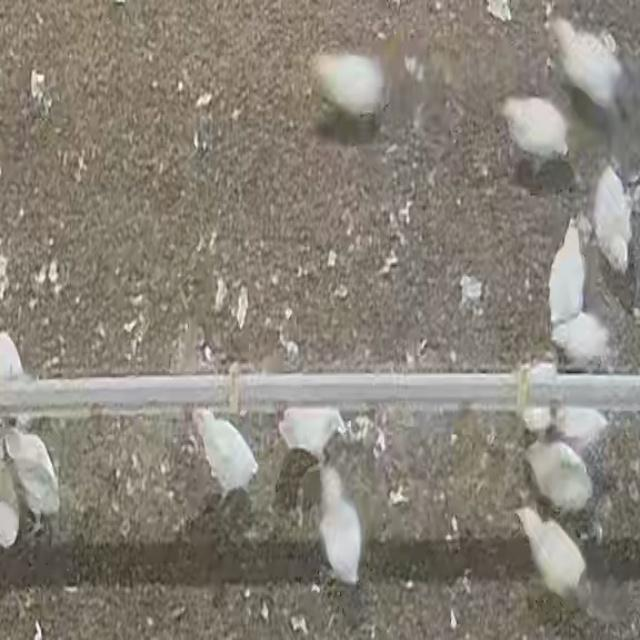chicken: (553, 14, 627, 115), (515, 508, 585, 600), (6, 426, 58, 530), (194, 409, 254, 497), (321, 468, 364, 588), (526, 438, 594, 508), (316, 55, 384, 124), (505, 98, 563, 170), (594, 164, 631, 276), (277, 409, 347, 467), (548, 219, 584, 321), (551, 316, 610, 358)
